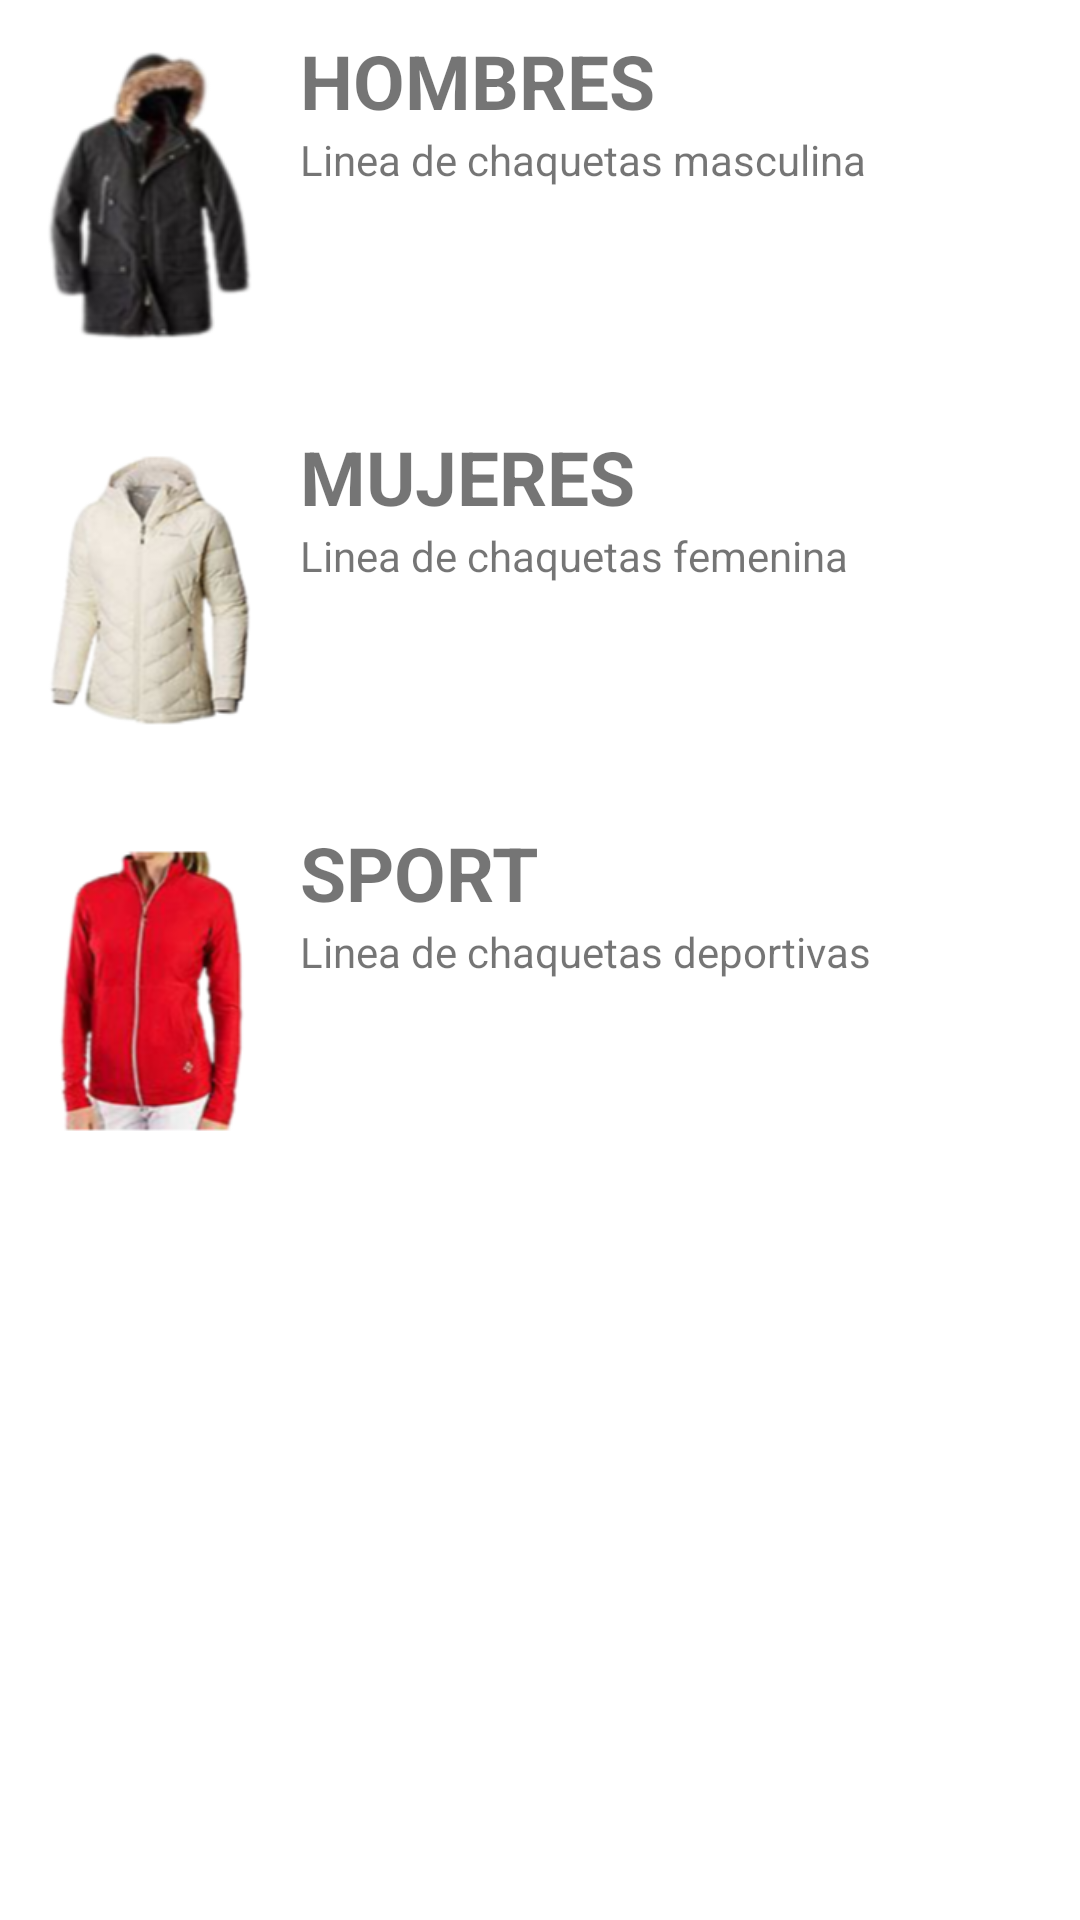

Where icons sit on this 1080*1920 app screen, as (x1, y1, x2, y2):
men: (50, 53, 250, 338)
women: (51, 457, 249, 724)
